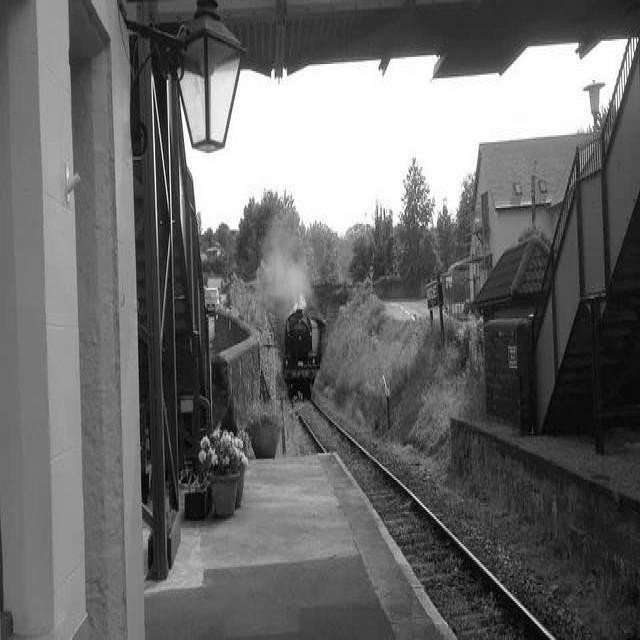vehicle: (204, 287, 219, 314)
